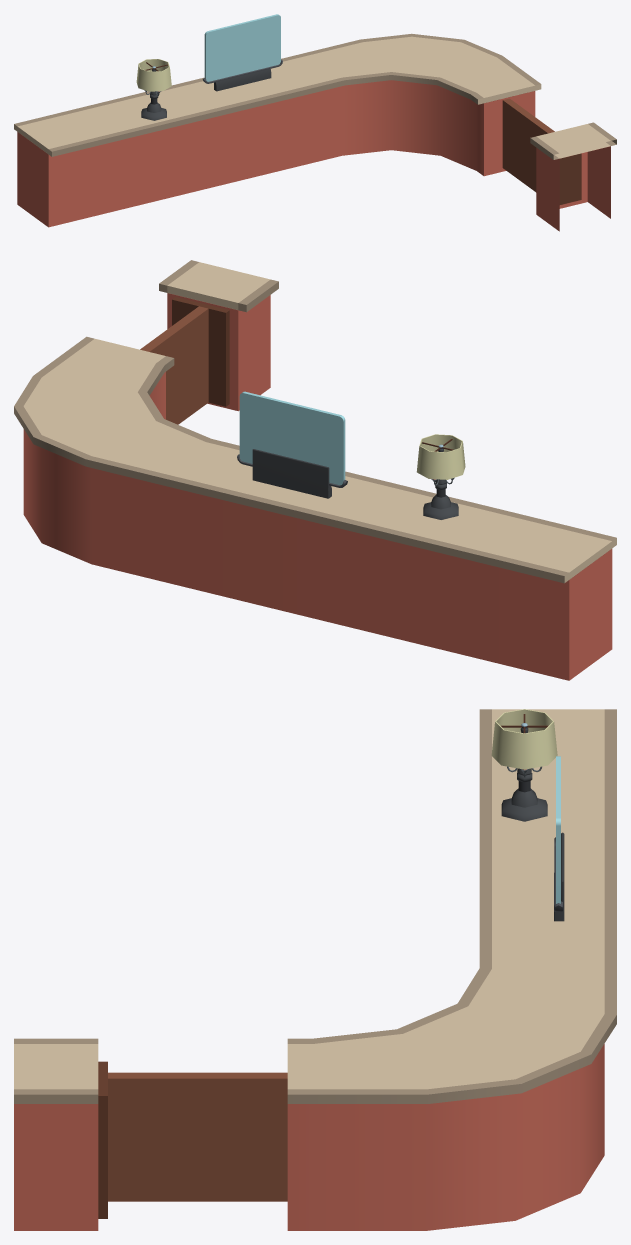
File: SM_GameArea_BarCounter_03.fbx
The picture shows the model from 3 angles, top to bottom: view 1: azimuth 30°, elevation 25°; view 2: azimuth 150°, elevation 25°; view 3: azimuth 270°, elevation 25°; orthographic projection. The views are drawn at different scales.
Parts seen in each view (by area): view 1: SM_GameArea_BarCounter_03; view 2: SM_GameArea_BarCounter_03; view 3: SM_GameArea_BarCounter_03.
Part boxes in pixels (bbox=[...]): SM_GameArea_BarCounter_03: bbox=[14, 14, 616, 231]; SM_GameArea_BarCounter_03: bbox=[14, 260, 616, 680]; SM_GameArea_BarCounter_03: bbox=[14, 709, 616, 1230].
Size of what is drawn, in the model's own units: 2209 by 672 by 1461.
